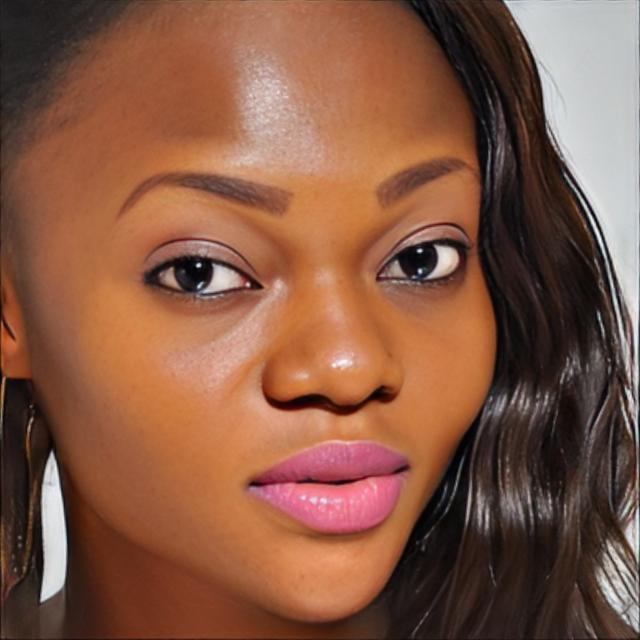neutral: (29, 0, 502, 624)
